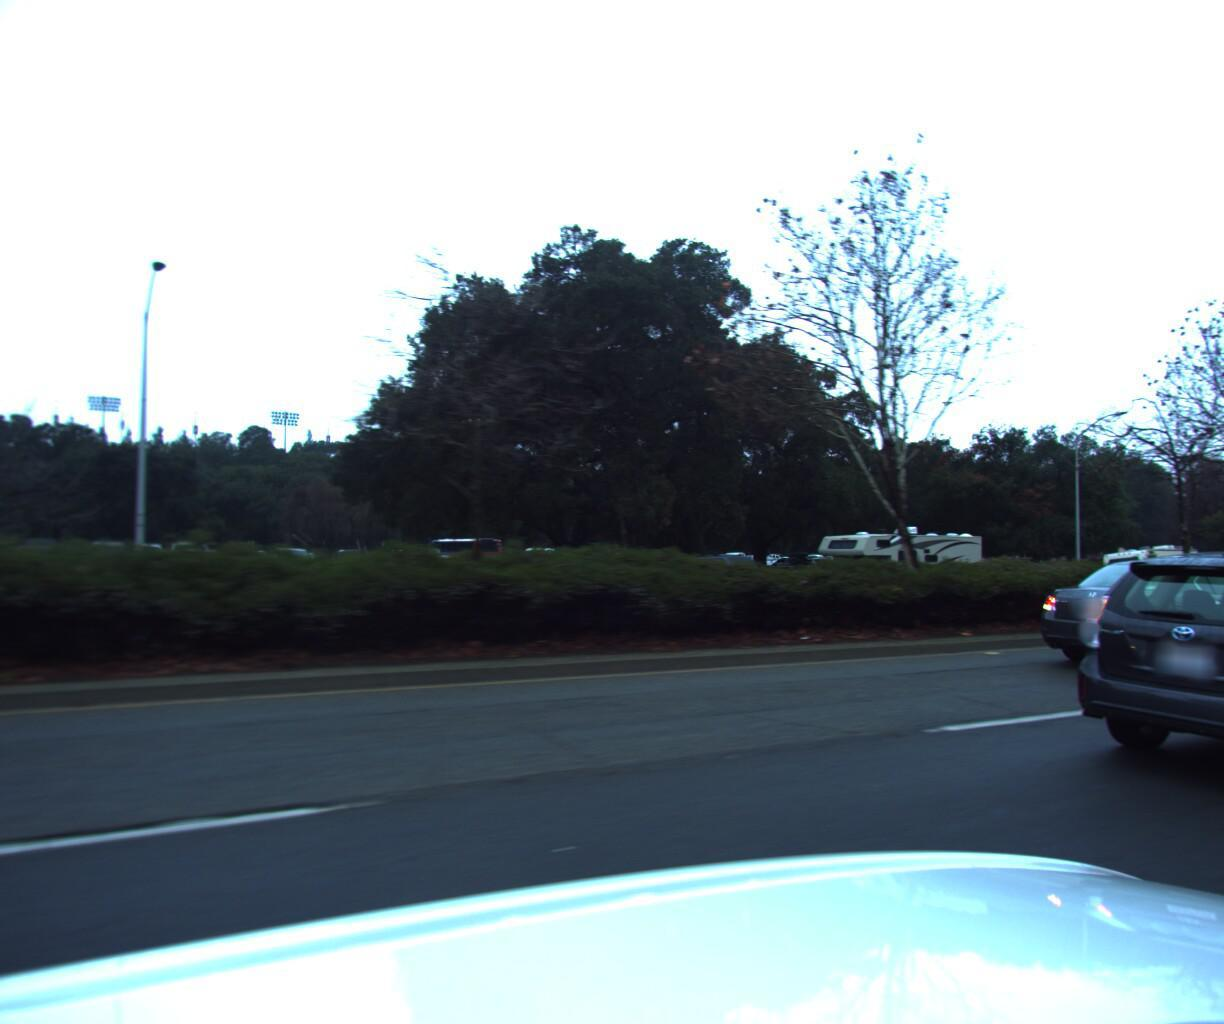car: (1035, 545, 1224, 827), (980, 555, 1224, 686), (642, 549, 760, 593)
other_vehicle: (810, 515, 983, 607), (1079, 536, 1196, 596)
